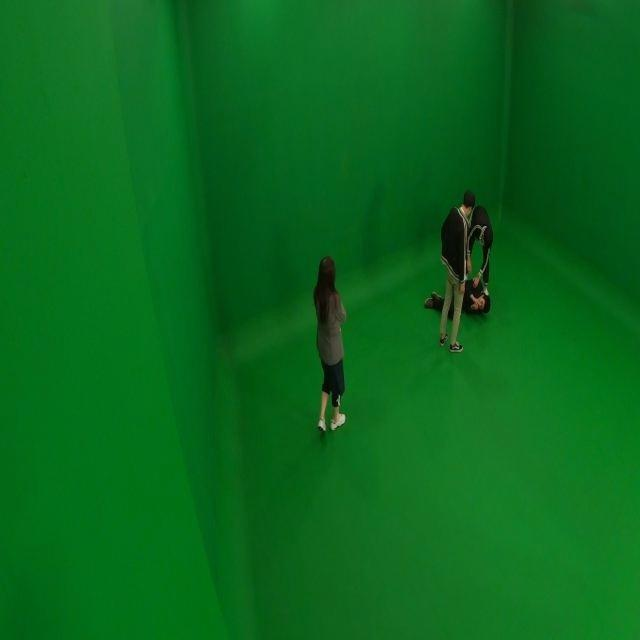fight: (422, 190, 493, 353)
non-fight: (311, 256, 352, 432)
